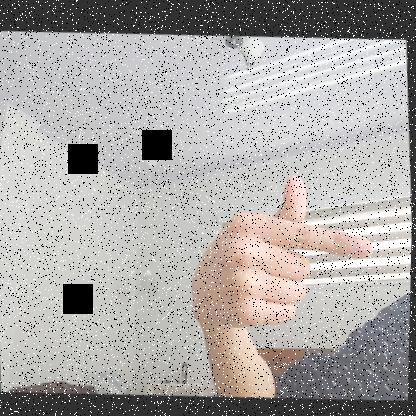T: (180, 157, 381, 333)
